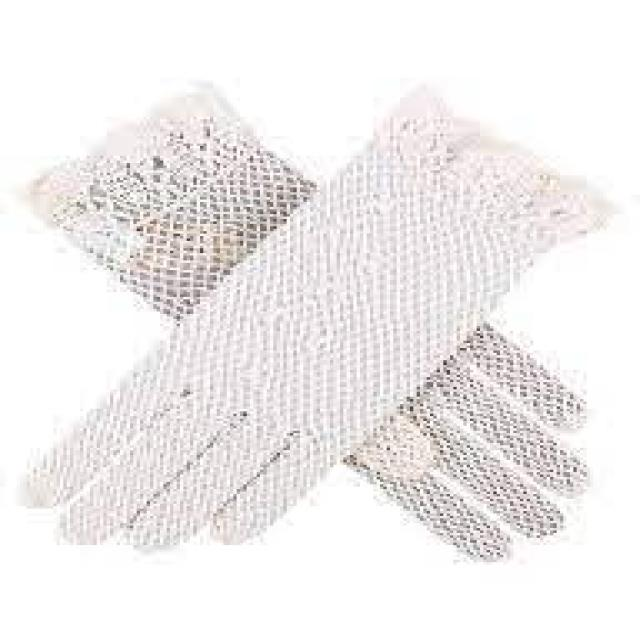Clothes -Biodegradable-: (16, 80, 623, 564)
